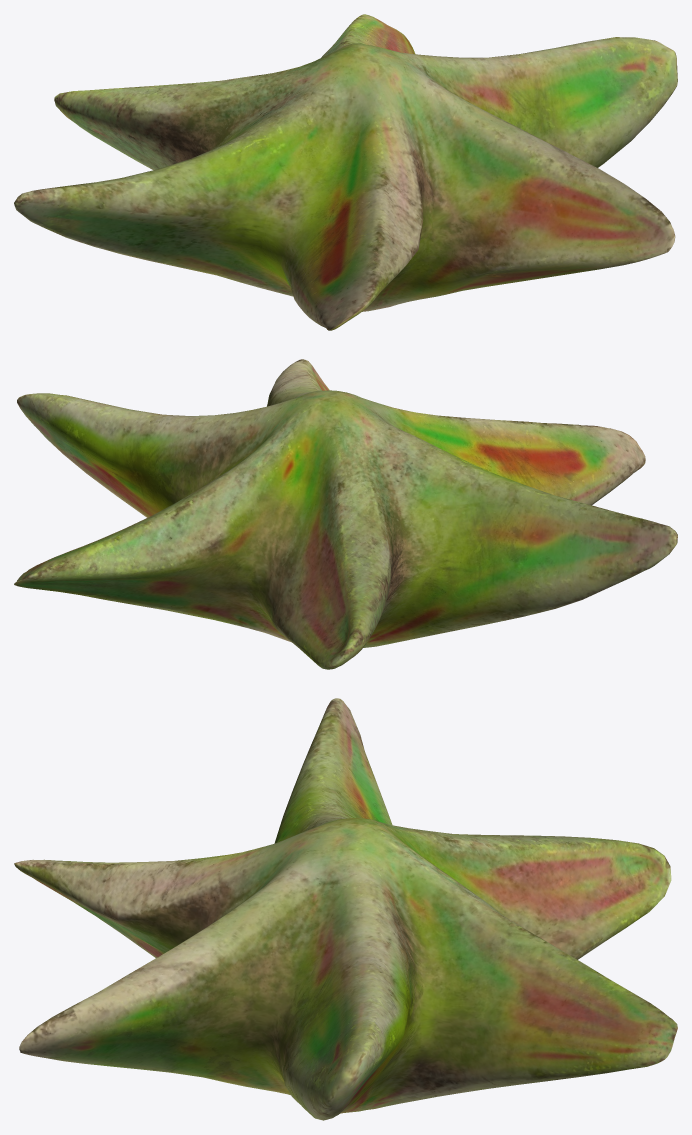
The model's file is TO_003_Starfish.glb.
The picture shows the model from 3 angles, top to bottom: view 1: azimuth 30°, elevation 25°; view 2: azimuth 150°, elevation 25°; view 3: azimuth 270°, elevation 25°; orthographic projection. The views are drawn at different scales.
Parts seen in each view (by area): view 1: PolyMesh3D_4; view 2: PolyMesh3D_4; view 3: PolyMesh3D_4.
Boxes of the visible parts, left/top/right/bottom form: PolyMesh3D_4: left=14, top=14, right=677, bottom=330; PolyMesh3D_4: left=14, top=359, right=677, bottom=669; PolyMesh3D_4: left=14, top=698, right=677, bottom=1120.
Bounding box in the file's own units: 0.3256 × 0.1172 × 0.2545.
1 material, 1 textured.
